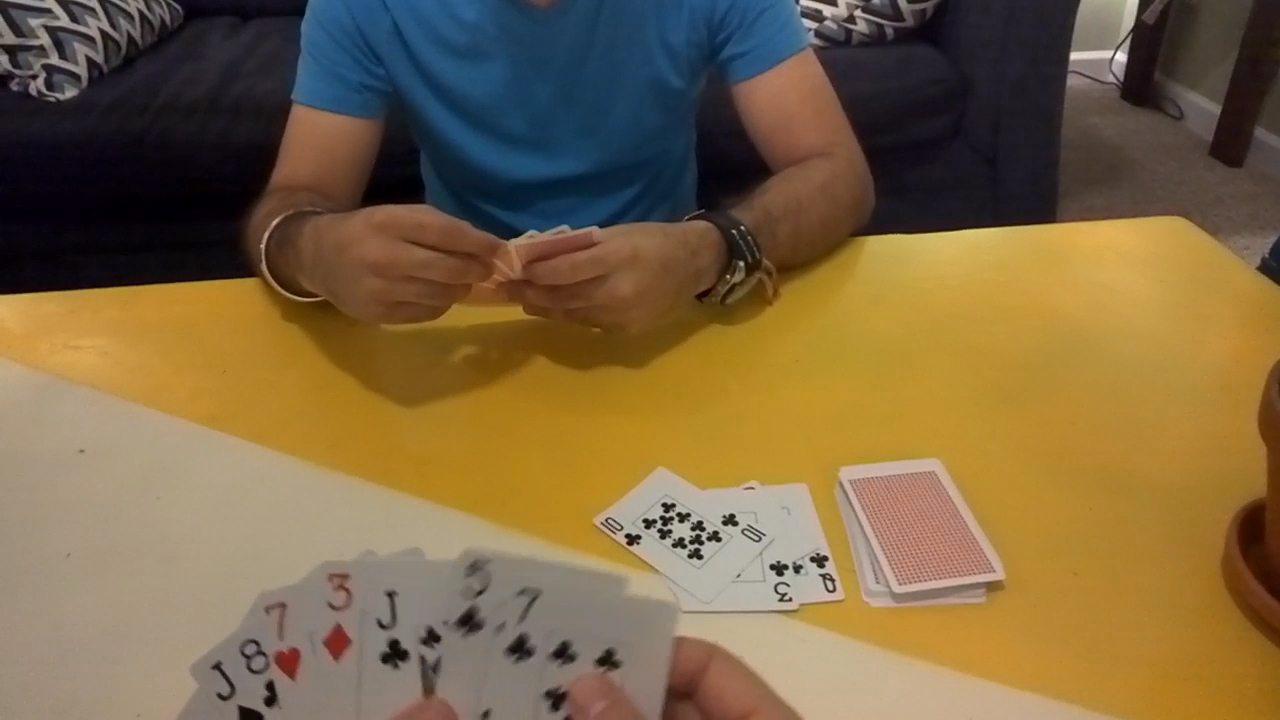hand: (511, 221, 740, 321), (303, 211, 498, 327), (570, 637, 812, 715), (394, 696, 458, 715)
